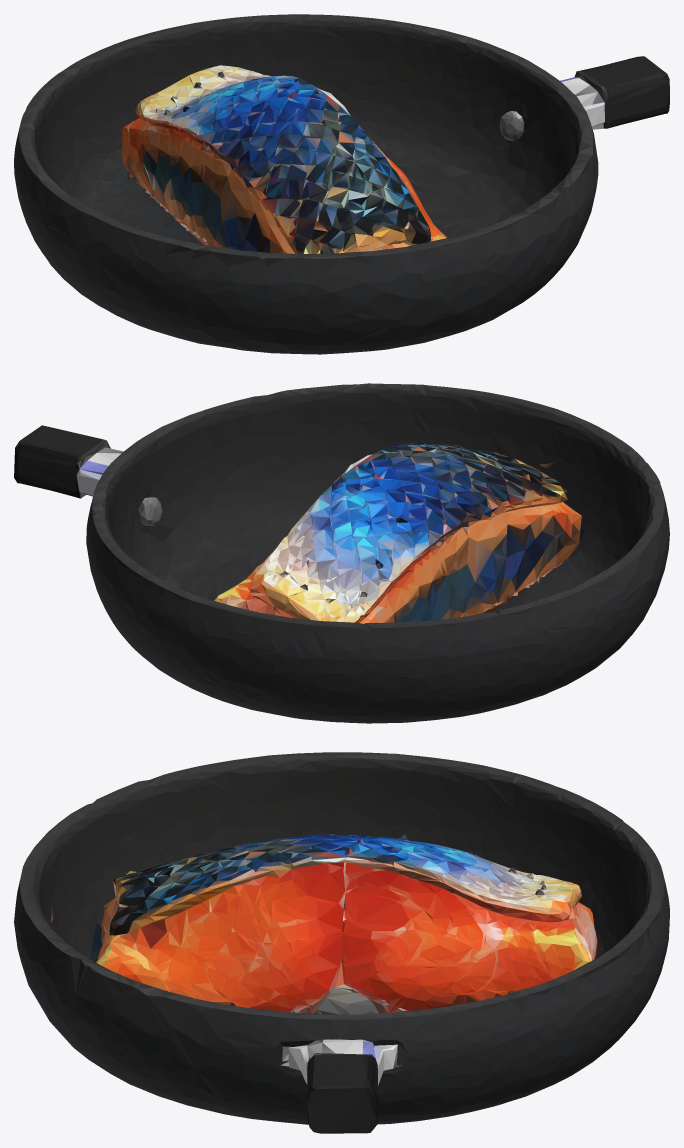
File: salmon_pan.glb
The picture shows the model from 3 angles, top to bottom: view 1: azimuth 30°, elevation 25°; view 2: azimuth 150°, elevation 25°; view 3: azimuth 270°, elevation 25°; orthographic projection. The views are drawn at different scales.
Parts seen in each view (by area): view 1: geometry_0; view 2: geometry_0; view 3: geometry_0.
Part boxes in pixels (bbox=[...]): geometry_0: bbox=[14, 14, 669, 354]; geometry_0: bbox=[14, 383, 669, 723]; geometry_0: bbox=[14, 752, 669, 1133].
Bounding box in the file's own units: 0.28 × 0.0745 × 0.2392.
1 material, 1 textured.
